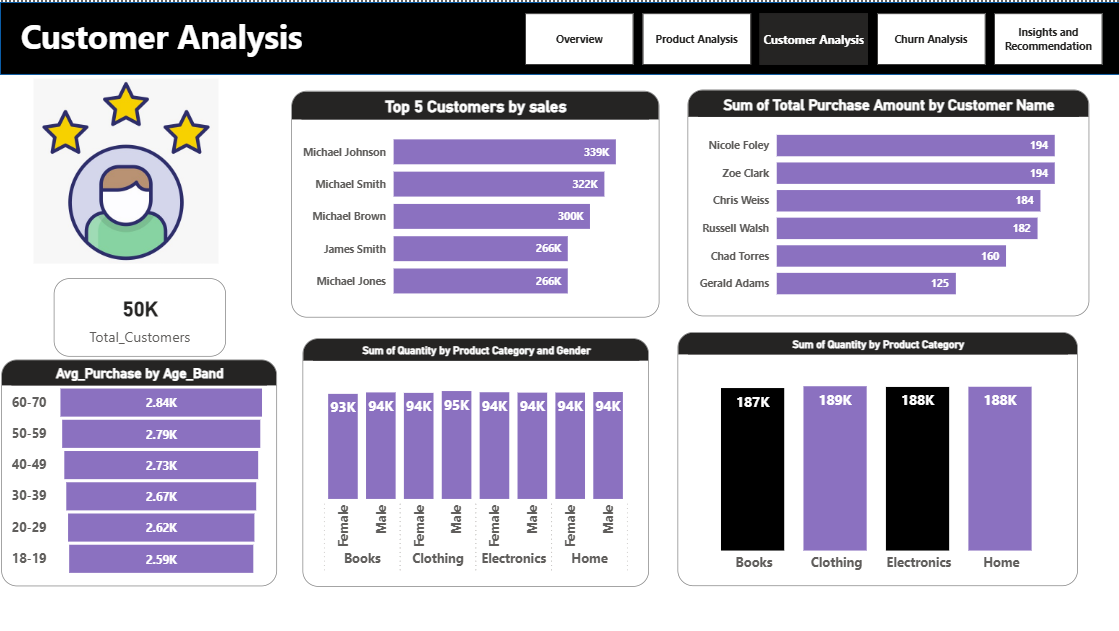

This screenshot's page, from the dashboard's own definition file:
{"tool":"powerbi","page":{"name":"Customer Analysis","canvas":[1280,720],"ordinal":2},"visuals":[{"type":"clusteredBarChart","title":"Top 5 Customers by sales","fields":{"Category":["ecommerce_customer_data_large.Customer Name"],"Y":["Sum(ecommerce_customer_data_large.Total Purchase Amount)"]},"box":[333.5,101.2,420.5,259.4],"z":0},{"type":"image","box":[0,82.7,287.9,220.9],"z":1000},{"type":"shape","box":[0,0,2380.3,83.2],"z":2000},{"type":"textbox","box":[18.1,8.4,690.1,66.4],"z":3000},{"type":"pageNavigator","box":[599.6,13.3,663.5,59.1],"z":4000},{"type":"clusteredBarChart","fields":{"Category":["ecommerce_customer_data_large.Customer Name"],"Y":["Sum(ecommerce_customer_data_large.Total Purchase Amount)"]},"box":[785.4,99.8,459,259.4],"z":5000},{"type":"funnel","fields":{"Category":["ecommerce_customer_data_large.Age_Band"],"Y":["ecommerce_customer_data_large.Avg_Purchase"]},"box":[1.4,409.1,315,259.4],"z":6000},{"type":"columnChart","fields":{"Category":["ecommerce_customer_data_large.Product Category","ecommerce_customer_data_large.Age_Band"],"Y":["Sum(ecommerce_customer_data_large.Quantity)"]},"box":[774,377.7,457.6,290.8],"z":7000},{"type":"columnChart","fields":{"Category":["ecommerce_customer_data_large.Product Category","ecommerce_customer_data_large.Gender"],"Y":["Sum(ecommerce_customer_data_large.Quantity)"]},"box":[346.4,384.9,396.3,283.7],"z":8000},{"type":"card","fields":{"Values":["ecommerce_customer_data_large.Total_Customers"]},"box":[61.3,315,196.7,89.8],"z":9000}]}

Visuals, with their boxes in screenshot pixels (x1, y1, x2, y2), scaled from the page's 1280x720 canvas onto the 1119x631 screenshot:
"Top 5 Customers by sales" clusteredBarChart: detection(292, 89, 659, 316)
image: detection(0, 72, 252, 266)
shape: detection(0, 0, 1118, 73)
textbox: detection(16, 7, 619, 66)
pageNavigator: detection(524, 12, 1104, 63)
clusteredBarChart - ecommerce_customer_data_large.Customer Name x Sum(ecommerce_customer_data_large.Total Purchase Amount): detection(687, 87, 1088, 315)
funnel - ecommerce_customer_data_large.Age_Band x ecommerce_customer_data_large.Avg_Purchase: detection(1, 359, 277, 586)
columnChart - ecommerce_customer_data_large.Product Category x ecommerce_customer_data_large.Age_Band: detection(677, 331, 1077, 586)
columnChart - ecommerce_customer_data_large.Product Category x ecommerce_customer_data_large.Gender: detection(303, 337, 649, 586)
card - ecommerce_customer_data_large.Total_Customers: detection(54, 276, 226, 355)
